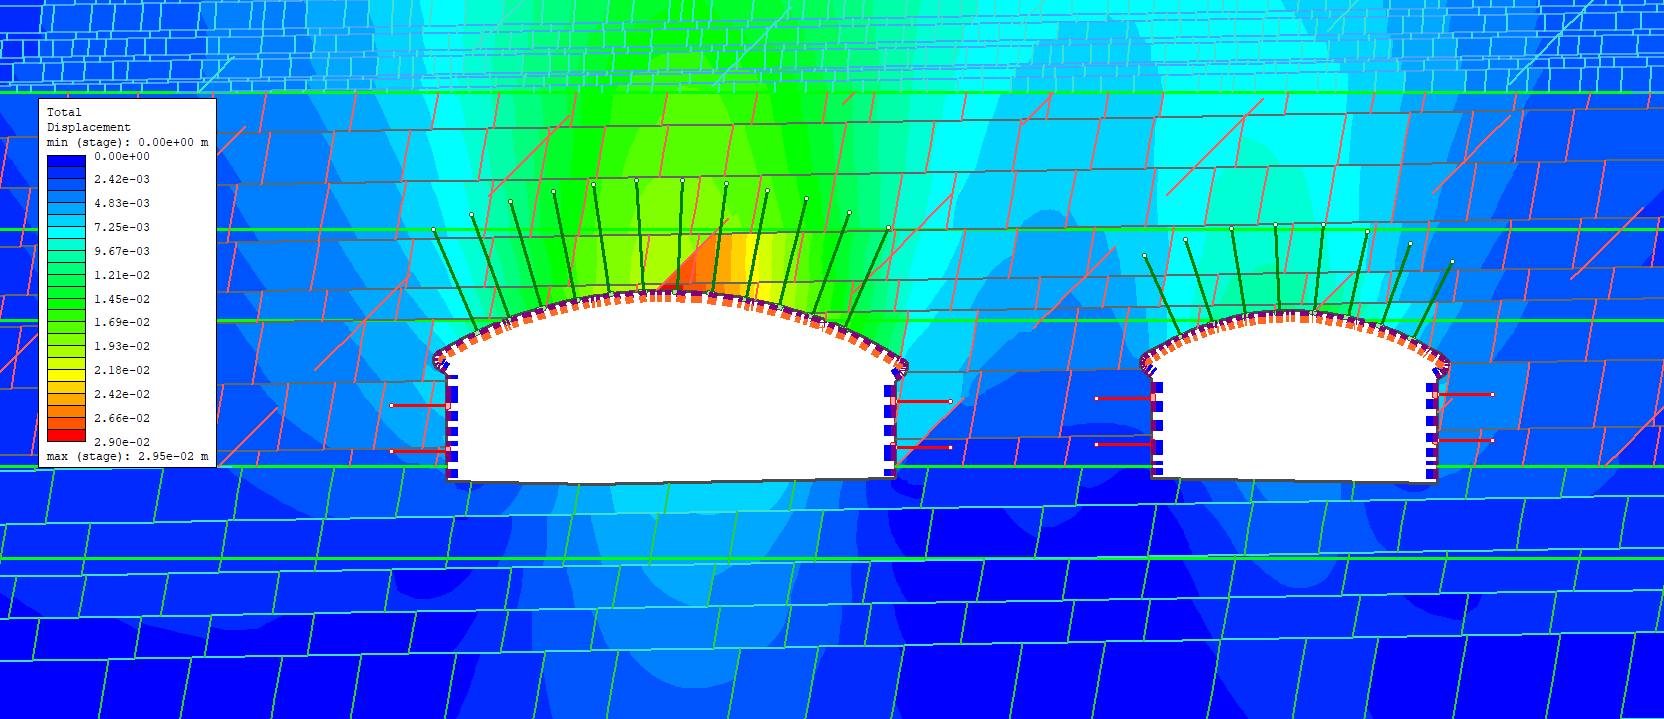crown: (624, 258, 736, 290), (1251, 282, 1338, 306)
label: (39, 104, 211, 467)
tunnel-opening: (432, 290, 906, 478), (1142, 309, 1451, 476)
